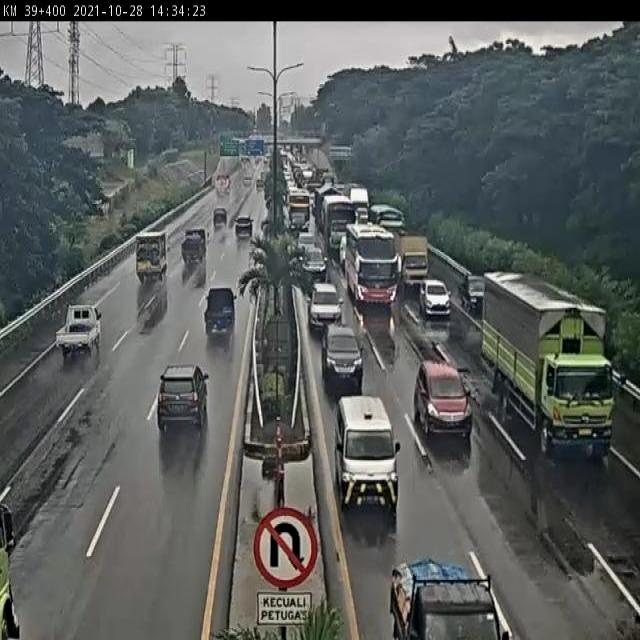Bus: (346, 224, 402, 308), (136, 231, 170, 282)
Car: (414, 363, 474, 439), (157, 364, 210, 430), (319, 323, 365, 387), (304, 282, 346, 331), (419, 281, 454, 320), (299, 248, 328, 279), (233, 215, 255, 238), (213, 208, 228, 226)
Truck: (484, 273, 627, 454), (393, 559, 513, 640), (387, 227, 428, 291), (55, 306, 103, 358), (204, 284, 238, 338), (181, 228, 210, 262)
Van: (334, 396, 404, 515)
